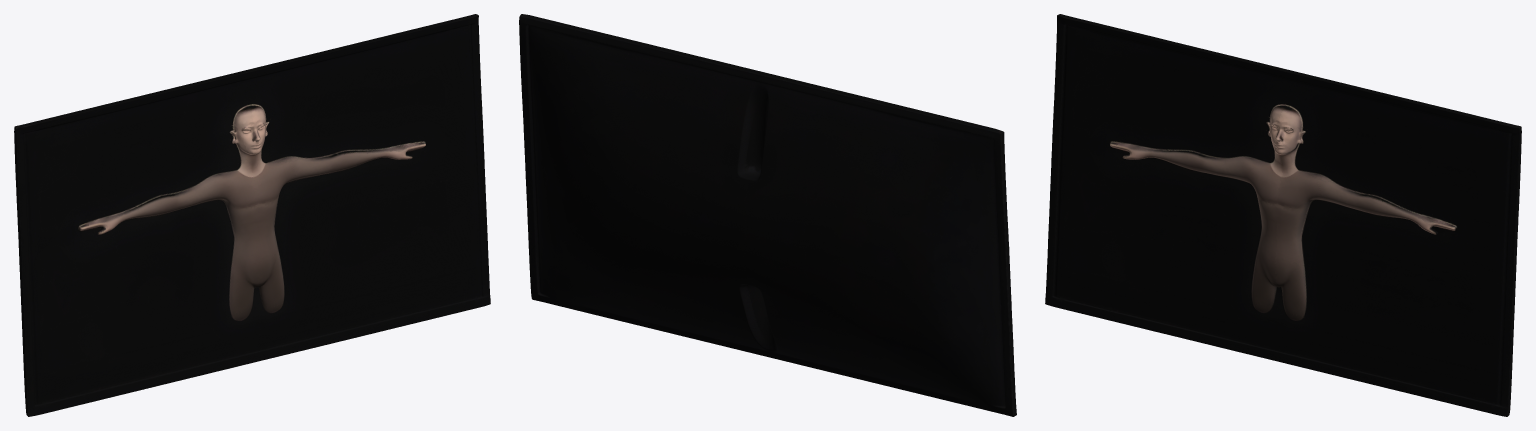
The model's file is char_yeoja_base_tpose_clean.glb.
3 renders of one model, left to right at view 1: azimuth 30°, elevation 25°; view 2: azimuth 150°, elevation 25°; view 3: azimuth 330°, elevation 25°, orthographic. The views are drawn at different scales.
Size of the model in its own units: 1.9 by 1.1 by 0.225.
Materials: 1 (1 with a texture image).
